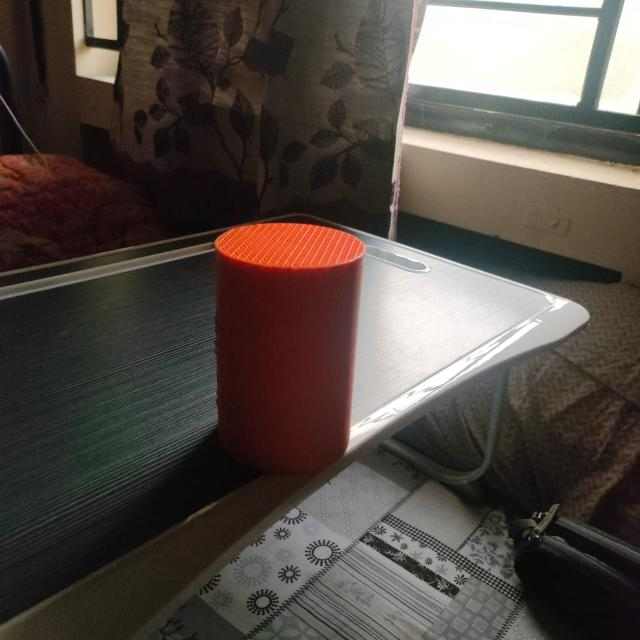Cylinder: (212, 220, 366, 474)
